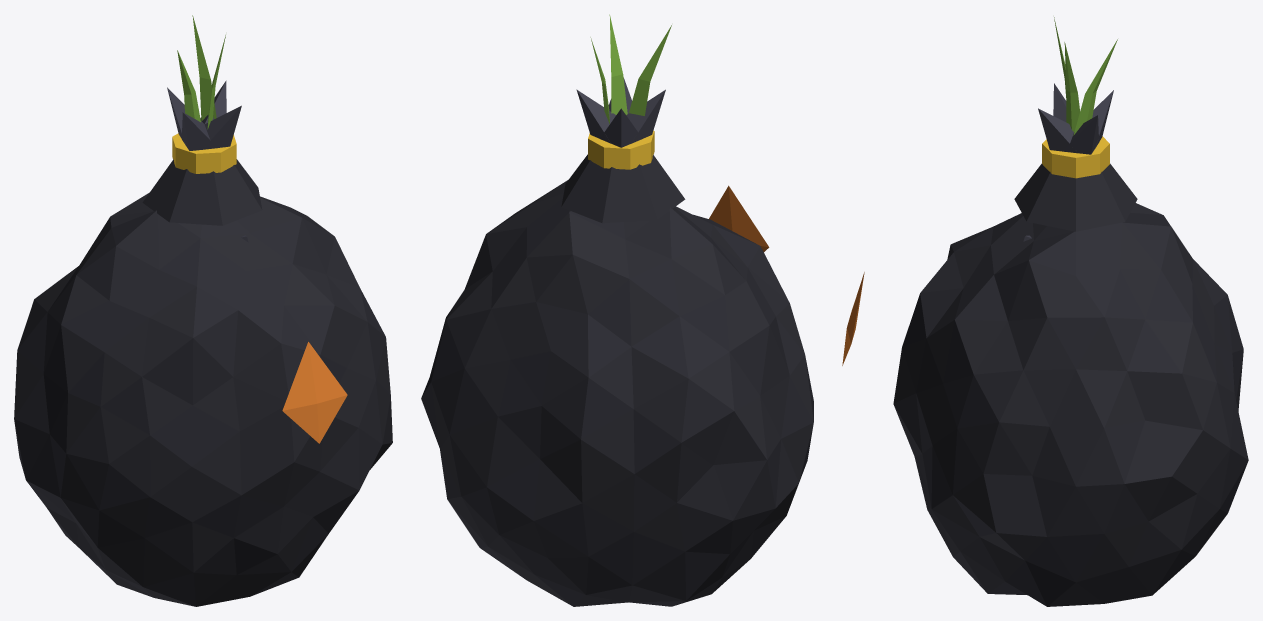
The model's file is bolsa_basura.glb.
The picture shows the model from 3 angles, left to right: view 1: azimuth 30°, elevation 25°; view 2: azimuth 150°, elevation 25°; view 3: azimuth 270°, elevation 25°; orthographic projection. The views are drawn at different scales.
Parts seen in each view (by area): view 1: bolsa_basura_plastico_negro, bolsa_basura_otono_naranja, bolsa_basura_plastico_negro_brillo, bolsa_basura_hierba, bolsa_basura_lazo_amarillo; view 2: bolsa_basura_plastico_negro, bolsa_basura_plastico_negro_brillo, bolsa_basura_hierba, bolsa_basura_lazo_amarillo, bolsa_basura_otono_naranja; view 3: bolsa_basura_plastico_negro, bolsa_basura_plastico_negro_brillo, bolsa_basura_lazo_amarillo, bolsa_basura_hierba, bolsa_basura_otono_naranja.
Boxes of the visible parts, bbox=[...] form: bolsa_basura_plastico_negro: bbox=[14, 159, 392, 606]; bolsa_basura_otono_naranja: bbox=[282, 342, 347, 443]; bolsa_basura_plastico_negro_brillo: bbox=[167, 80, 248, 242]; bolsa_basura_hierba: bbox=[177, 15, 225, 129]; bolsa_basura_lazo_amarillo: bbox=[172, 133, 236, 173]; bolsa_basura_plastico_negro: bbox=[421, 154, 813, 606]; bolsa_basura_plastico_negro_brillo: bbox=[576, 78, 665, 147]; bolsa_basura_hierba: bbox=[590, 14, 671, 124]; bolsa_basura_lazo_amarillo: bbox=[588, 130, 654, 169]; bolsa_basura_otono_naranja: bbox=[709, 185, 769, 251]; bolsa_basura_plastico_negro: bbox=[893, 163, 1248, 606]; bolsa_basura_plastico_negro_brillo: bbox=[1023, 83, 1113, 241]; bolsa_basura_lazo_amarillo: bbox=[1042, 136, 1109, 178]; bolsa_basura_hierba: bbox=[1054, 17, 1117, 135]; bolsa_basura_otono_naranja: bbox=[842, 272, 864, 365].
Size of the model in its own units: 0.8639 by 1.32 by 0.8997.
